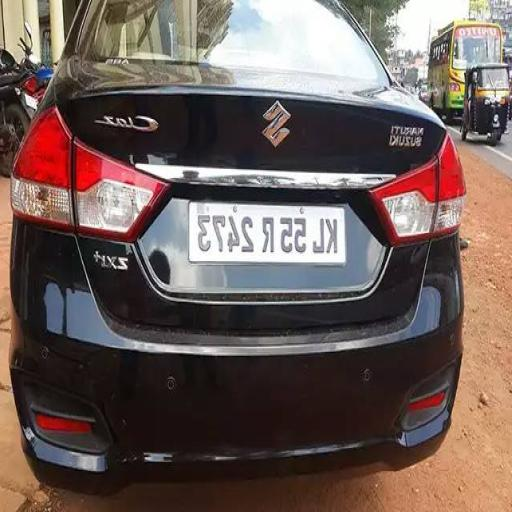License: (194, 209, 343, 263)
